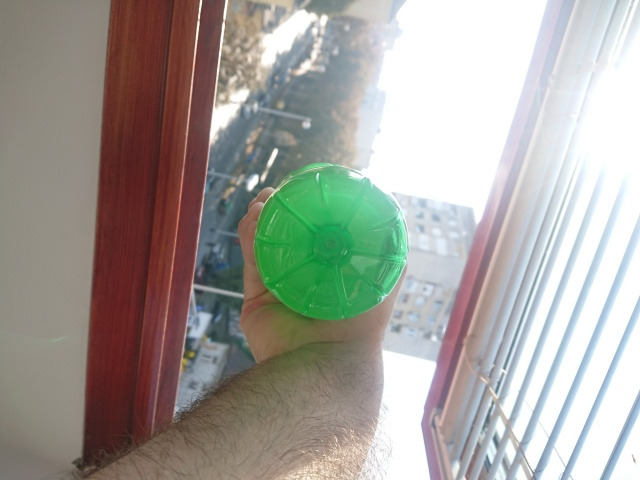Vindi Iso Sport Lemon-Grapefruit 500mL: (248, 159, 413, 325)
